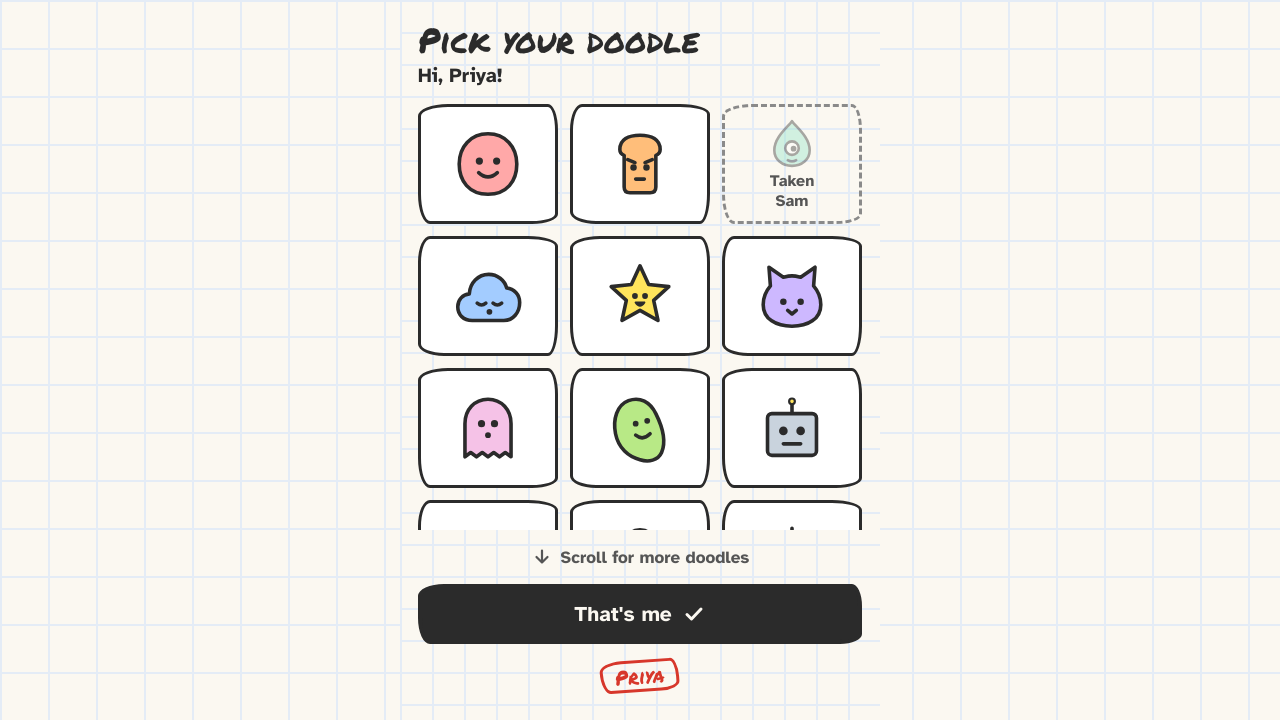
Test: PlayerApp › remembers the picked doodle and closes the picker
Click the button named "Choose the star avatar" at (640, 296), box [570, 236, 710, 356]
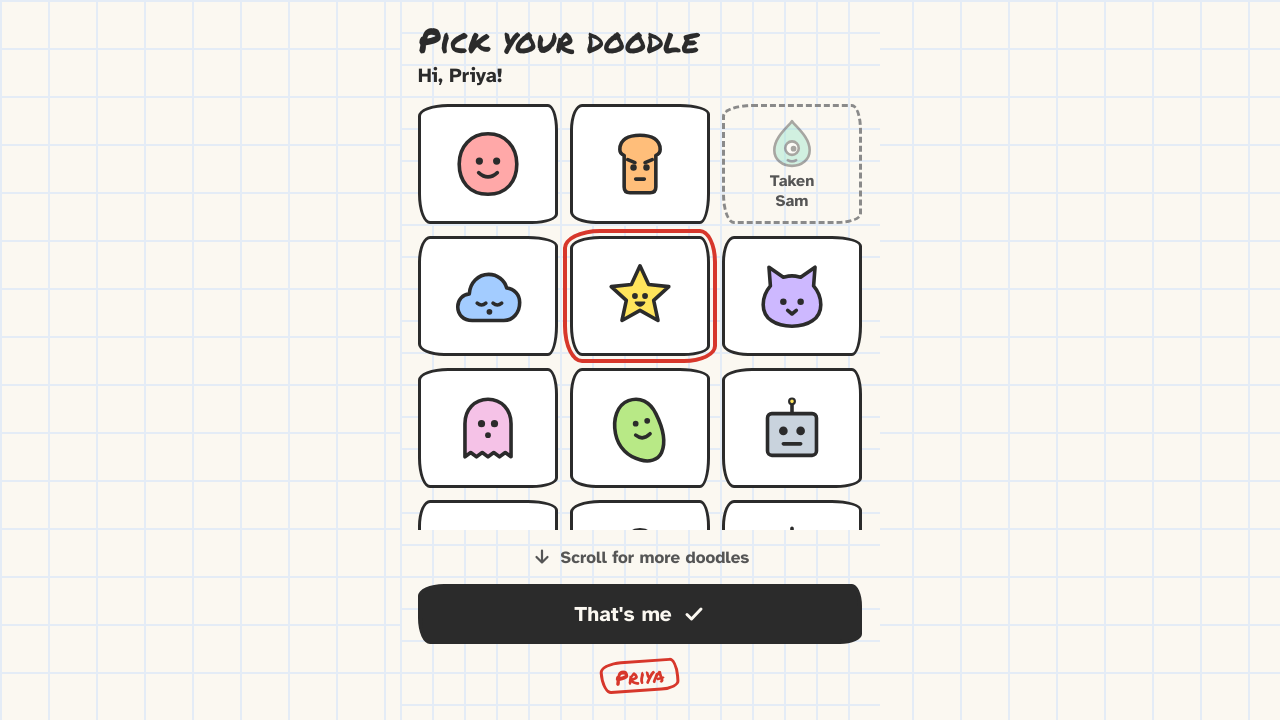
Click the button "That's me" at (640, 614), box [418, 584, 862, 644]
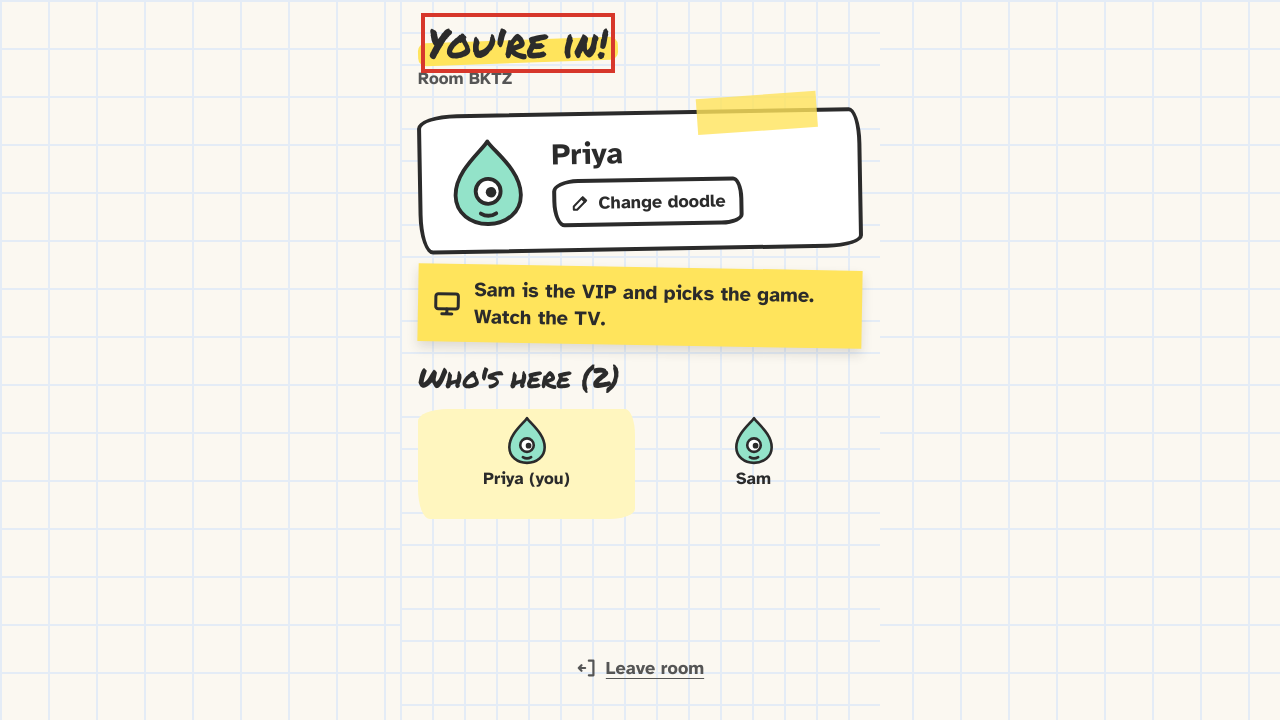
Check: the heading "Pick your doodle" is gone
Check: the heading "You're in!" is shown, box [428, 20, 608, 66]
